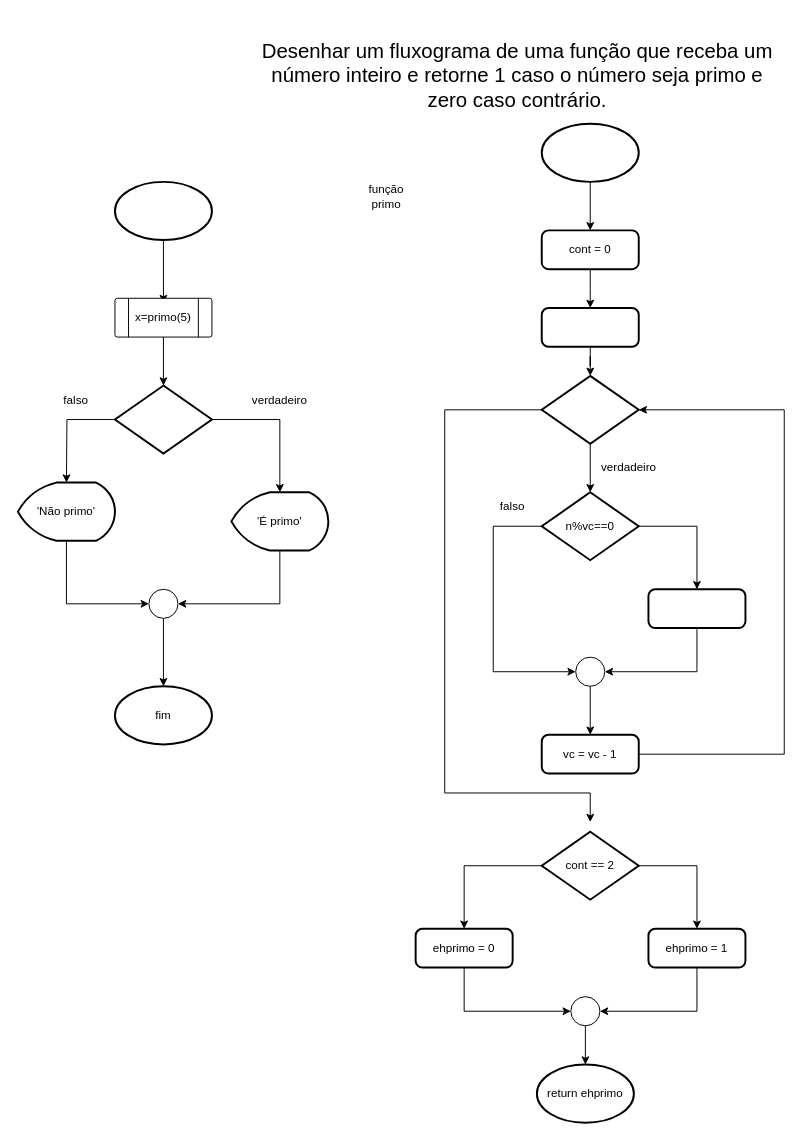
Image size: 809x1140. Some labels were removed from this diagram. The centre of each missing label's shape, as x and y in pixels:
"cont = cont + 1" goes at point (696, 608).
"início" goes at point (162, 210).
"primo(n)" goes at point (589, 152).
"vc = n" goes at point (589, 327).
"vc<=1" goes at point (589, 409).
"x==1" goes at point (162, 419).
